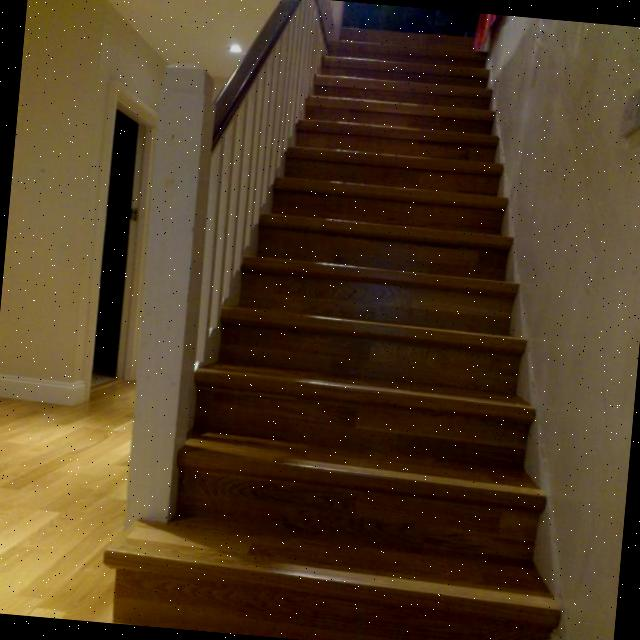stairs: (97, 5, 611, 640)
